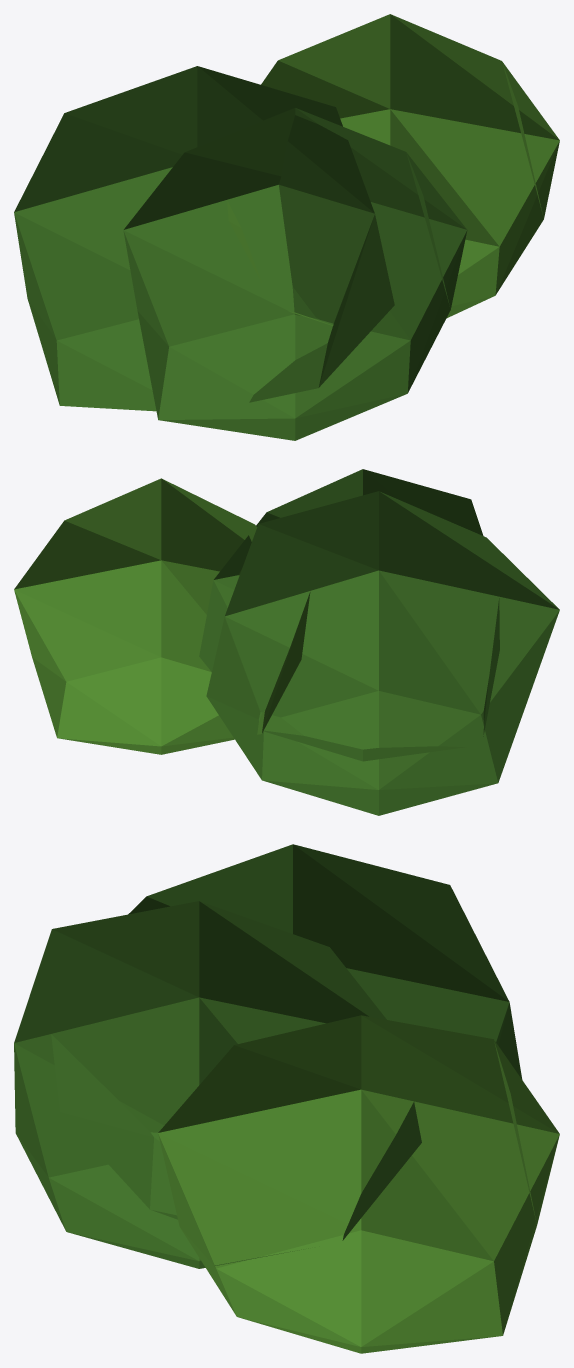
Rendered from bush-b.glb.
3 views of the same model, one above another, from view 1: azimuth 30°, elevation 25°; view 2: azimuth 150°, elevation 25°; view 3: azimuth 270°, elevation 25° (orthographic). The views are drawn at different scales.
Visible parts, largest first — view 1: bush-b; view 2: bush-b; view 3: bush-b.
Boxes of the visible parts, bbox=[...] form: bush-b: bbox=[14, 14, 559, 440]; bush-b: bbox=[14, 469, 559, 815]; bush-b: bbox=[14, 844, 559, 1353].
Bounding box in the file's own units: 1.72 × 0.9199 × 1.23.
